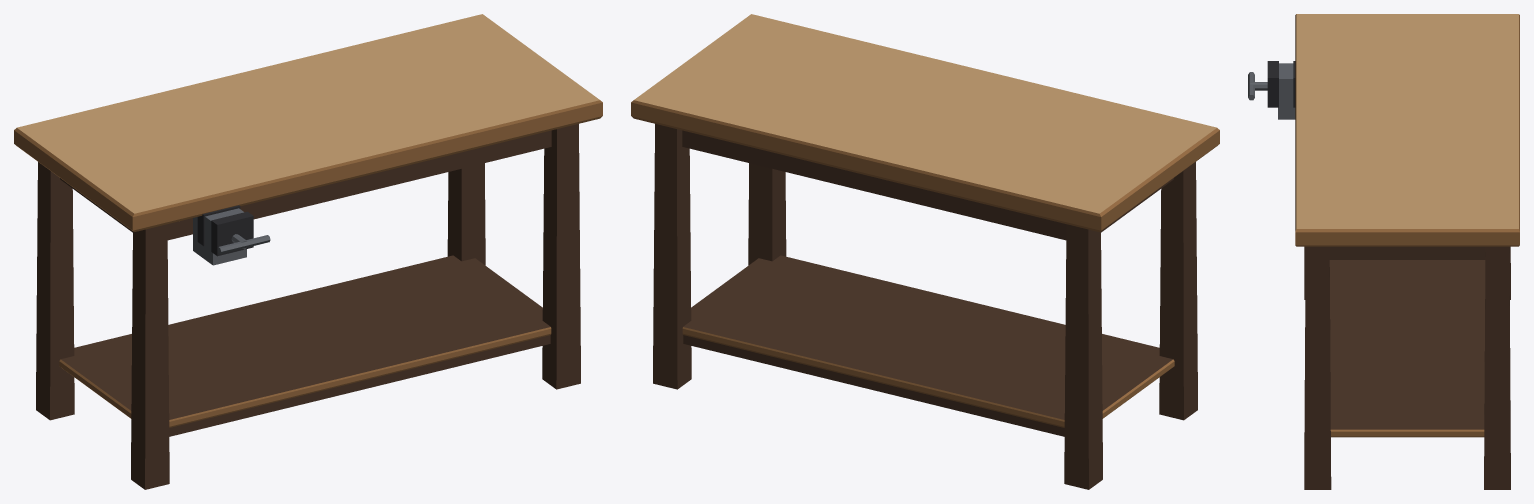
File: FN_Desk_Workbench.obj
The picture shows the model from 3 angles, left to right: view 1: azimuth 30°, elevation 25°; view 2: azimuth 150°, elevation 25°; view 3: azimuth 270°, elevation 25°; orthographic projection. The views are drawn at different scales.
Parts seen in each view (by area): view 1: FN_Desk_Workbench; view 2: FN_Desk_Workbench; view 3: FN_Desk_Workbench.
Boxes of the visible parts, <box> form: FN_Desk_Workbench: <box>14,14,602,489</box>; FN_Desk_Workbench: <box>631,14,1219,489</box>; FN_Desk_Workbench: <box>1248,14,1519,489</box>.
Size of the model in its own units: 1.6 by 0.92 by 0.847.
Materials: 1 (1 with a texture image).
